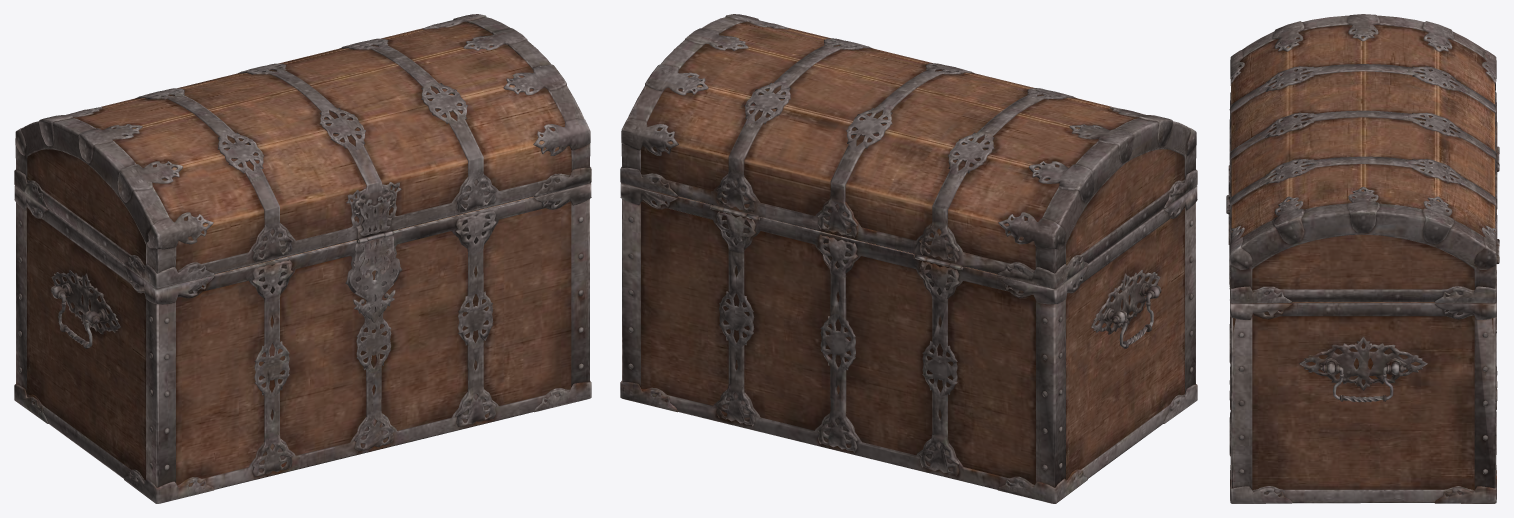
Rendered from treasure_chest.glb.
3 views of the same model, side by side, from view 1: azimuth 30°, elevation 25°; view 2: azimuth 150°, elevation 25°; view 3: azimuth 270°, elevation 25° (orthographic). The views are drawn at different scales.
Parts seen in each view (by area): view 1: treasure_chest_bottom, treasure_chest_lid, treasure_chest_lock, treasure_chest_handle_left; view 2: treasure_chest_bottom, treasure_chest_lid; view 3: treasure_chest_lid, treasure_chest_bottom, treasure_chest_handle_right.
Boxes of the visible parts, x1,y1,x2,y2 form: treasure_chest_bottom: (14,183,591,503); treasure_chest_lid: (14,14,591,288); treasure_chest_lock: (349,233,399,322); treasure_chest_handle_left: (50,285,100,348); treasure_chest_bottom: (620,183,1197,503); treasure_chest_lid: (620,14,1197,288); treasure_chest_lid: (1226,14,1499,303); treasure_chest_bottom: (1229,152,1499,503); treasure_chest_handle_right: (1320,365,1406,402).
Size of the model in its own units: 0.959 by 0.6186 by 0.5226.
1 material, 1 textured.
